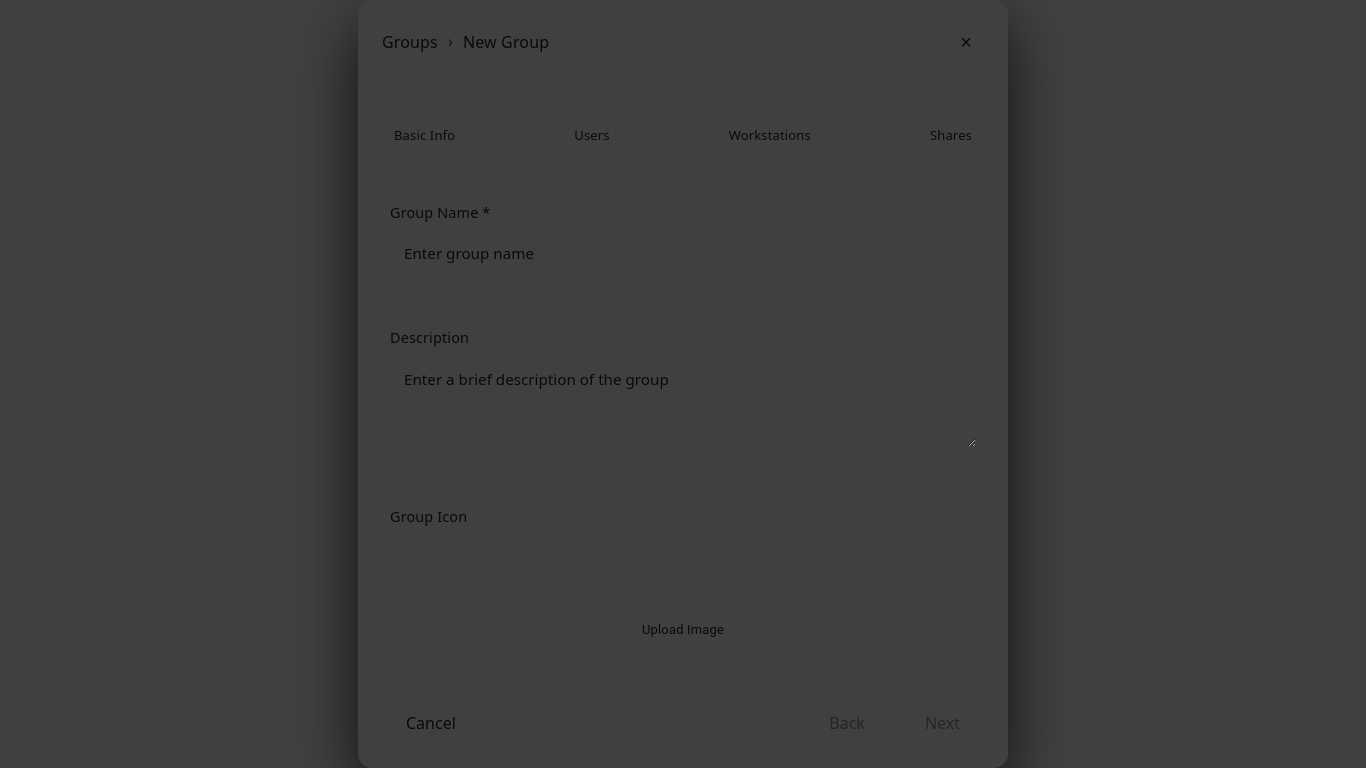
Scenario: GroupsModal Component › Step Navigation › shows Create/Save button on last step
This screenshot has width=1366, height=768.
Type "Test Group" into the field with placeholder "Enter group name" at (683, 253), box [390,231,976,275]
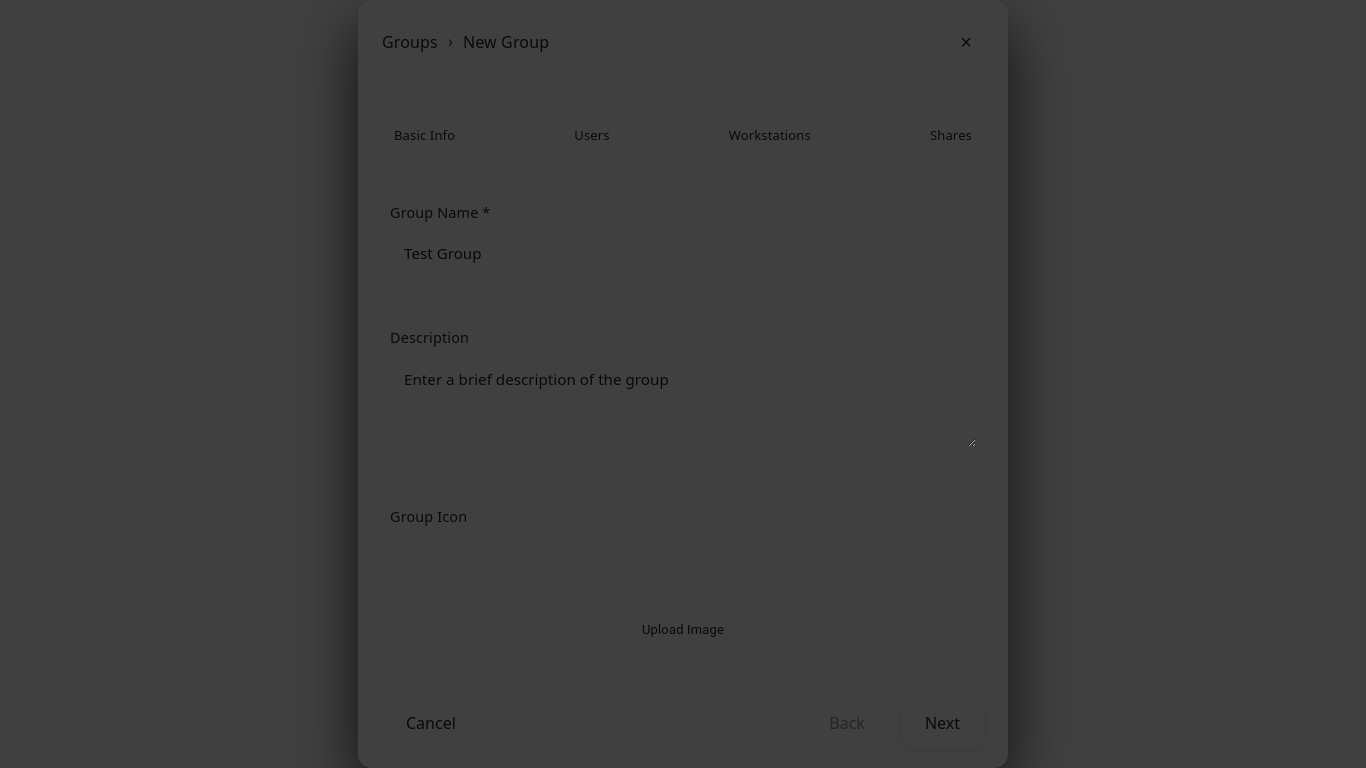
Navigate through all steps
Click the button "Next" at (942, 723), box [901,698,984,748]
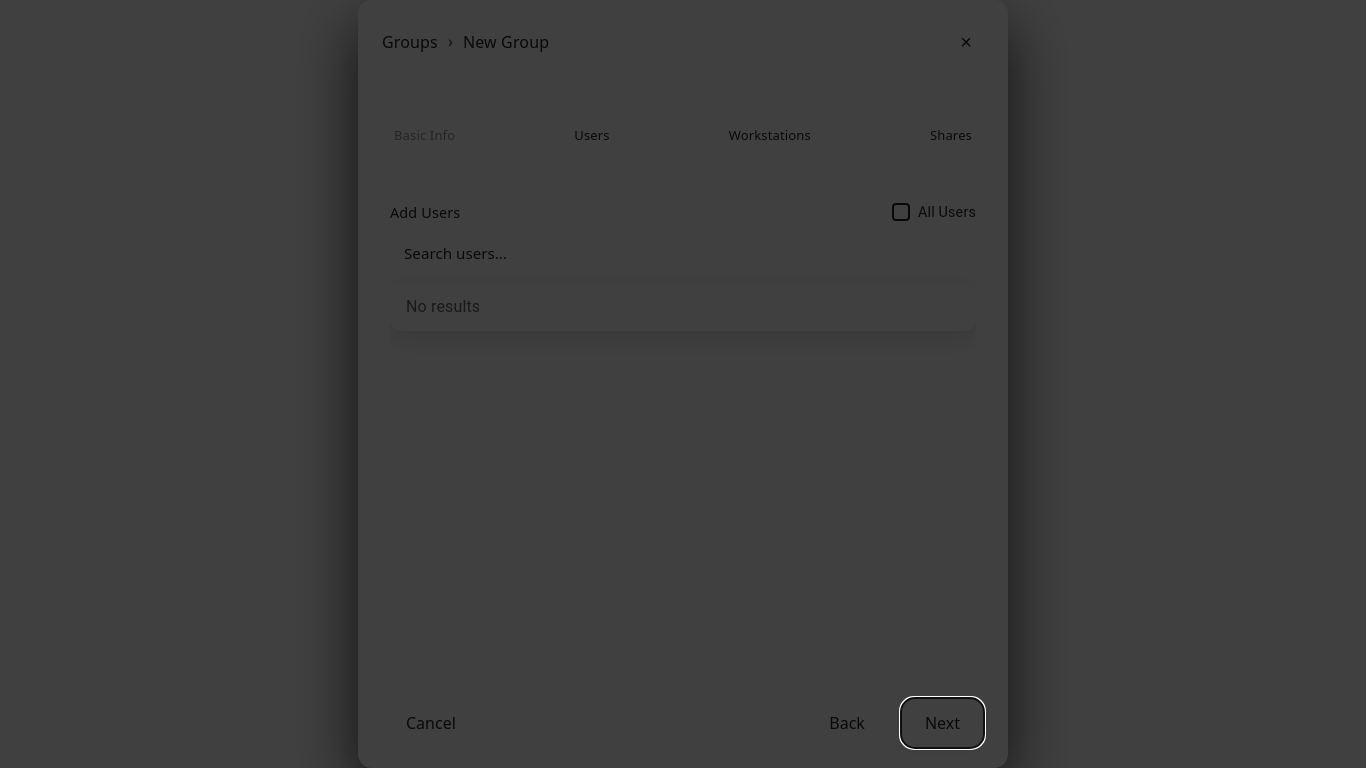
Click the button "Next" at (942, 723), box [901,698,984,748]
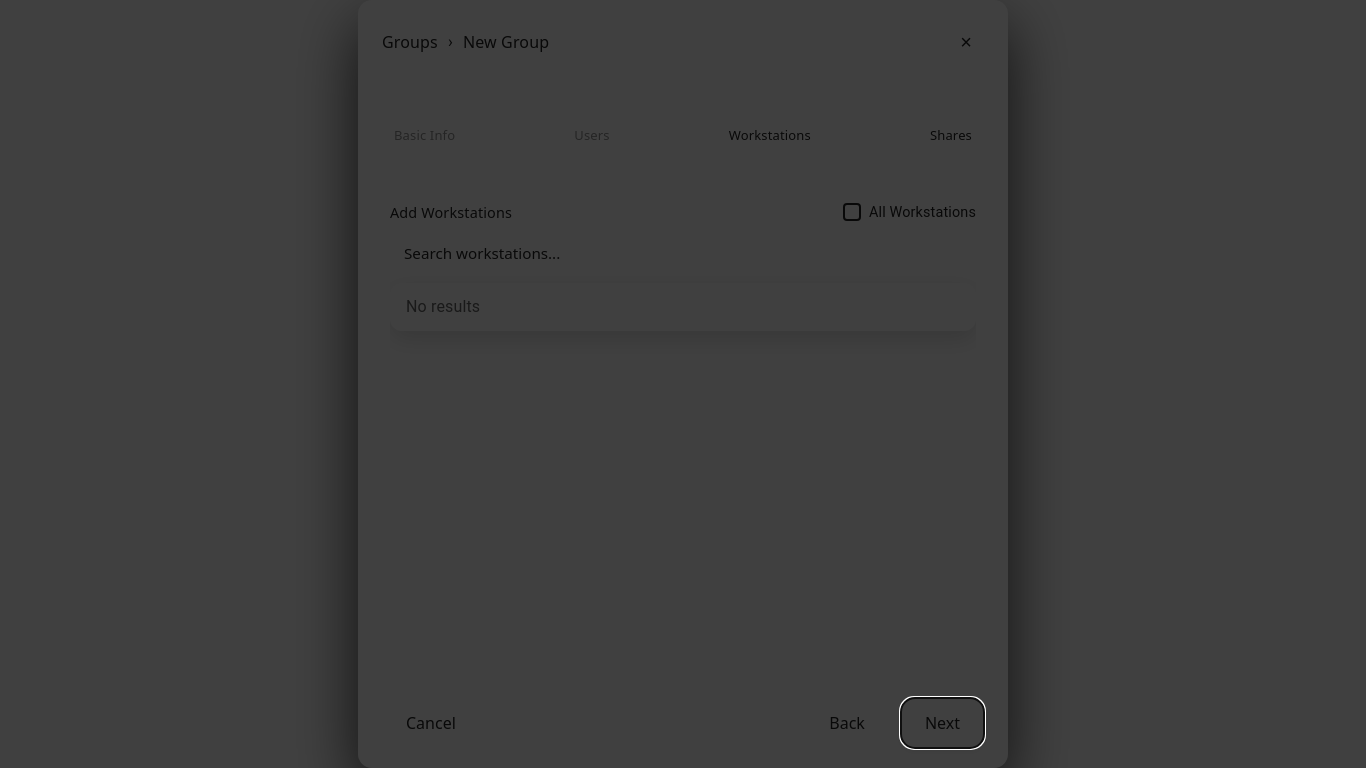
Click the button "Next" at (942, 723), box [901,698,984,748]
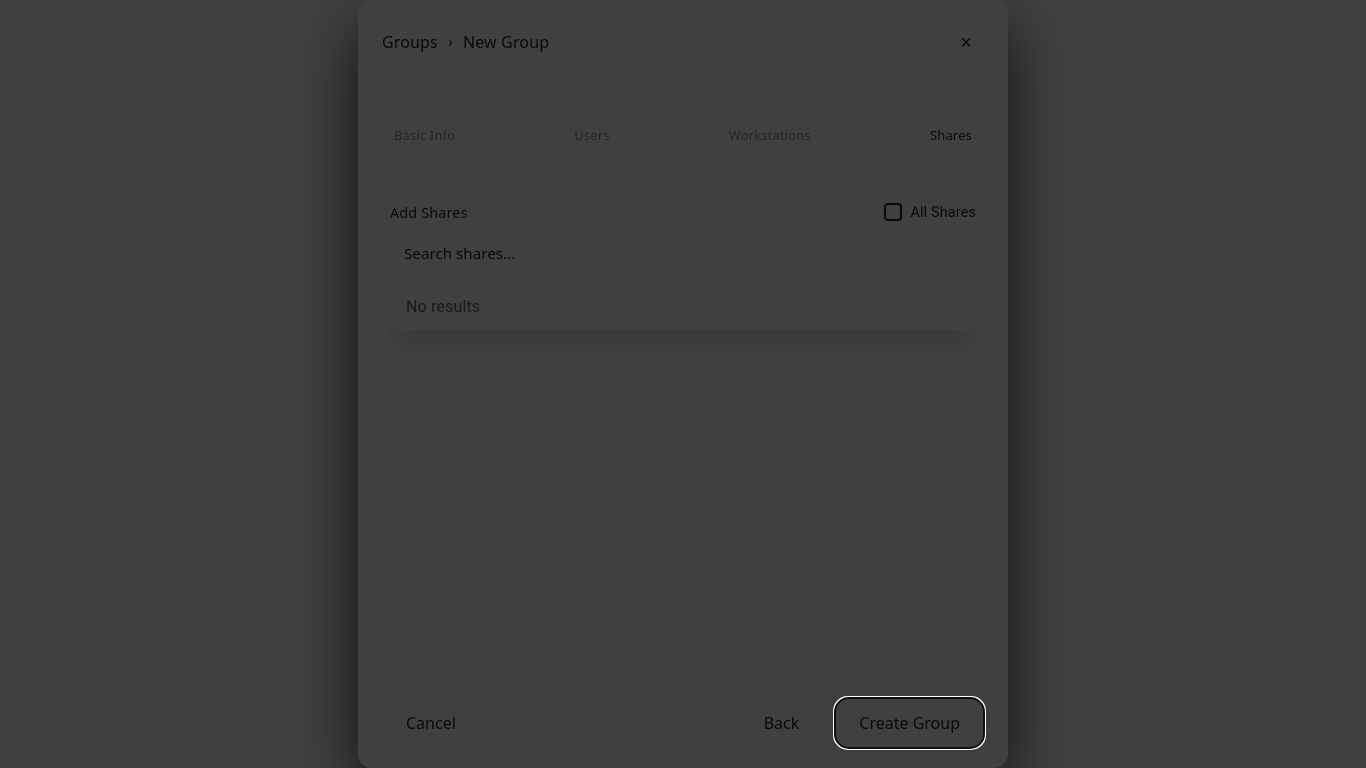
Expected: the button "Create Group" is shown, [835,698,984,748]
